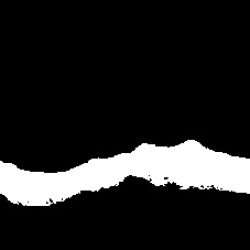crack: (1, 141, 248, 207)
